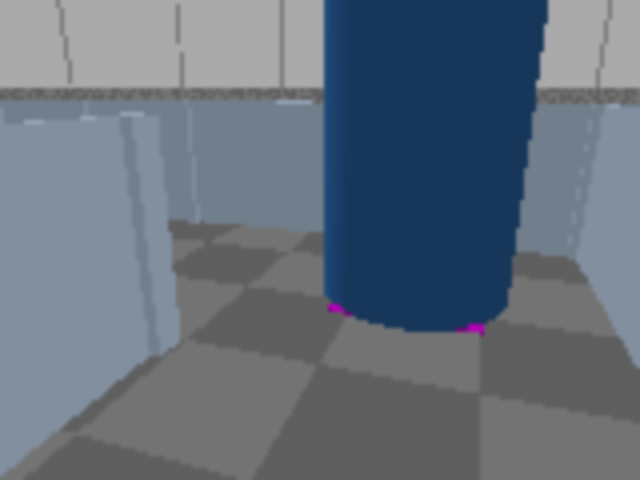person: (328, 0, 638, 329)
